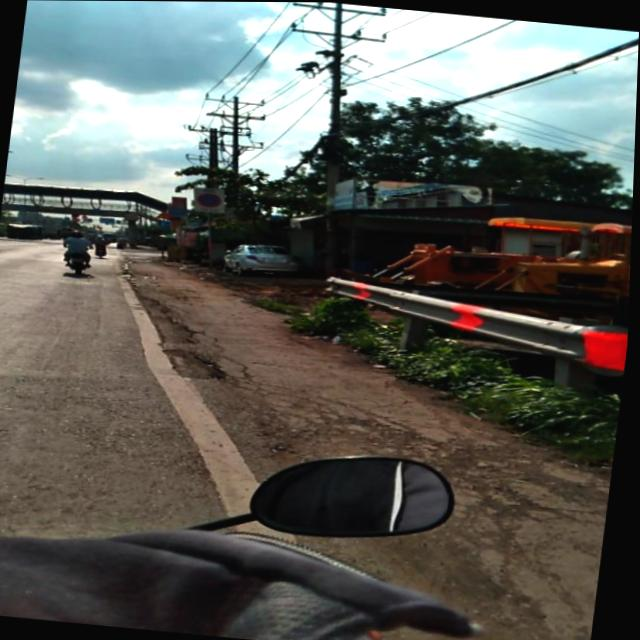Cam dung xe va do xe: (196, 191, 224, 208)
